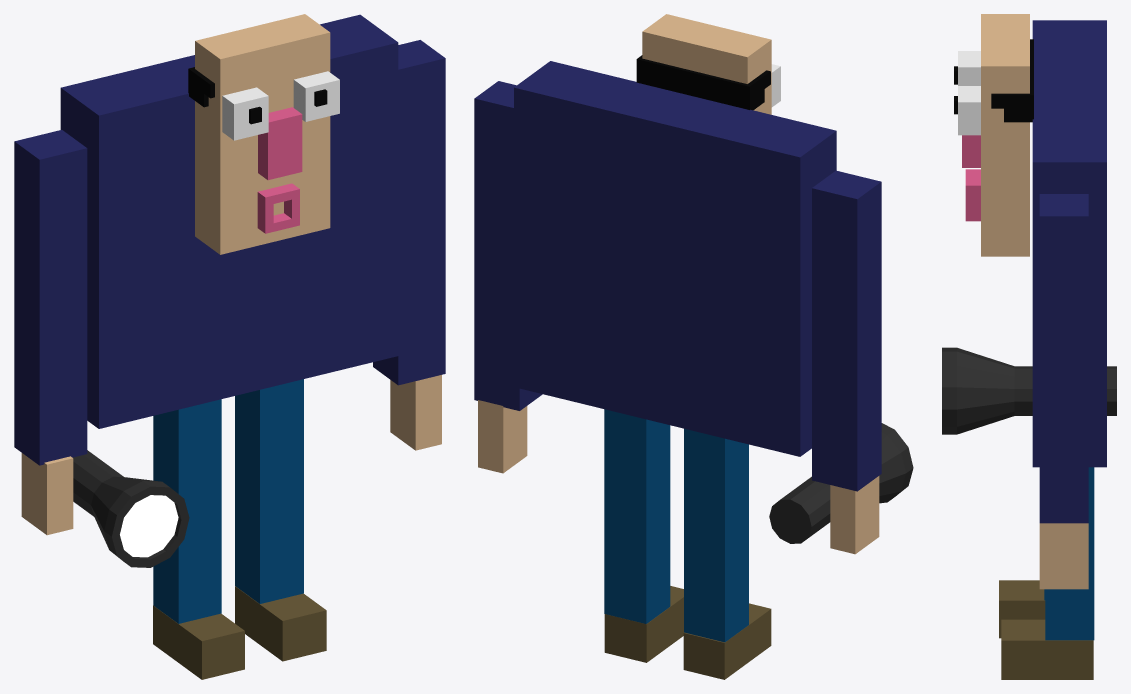
File: Man.glb
The picture shows the model from 3 angles, left to right: view 1: azimuth 30°, elevation 25°; view 2: azimuth 150°, elevation 25°; view 3: azimuth 270°, elevation 25°; orthographic projection. The views are drawn at different scales.
Parts seen in each view (by area): view 1: Cube, Cube.002, Cube.001, Cube.003, Cube.005, Cube.004, Cylinder, Cube.006, Cube.007, Cube.009, Cube.008, Cube.010 (+4 smaller); view 2: Cube, Cube.002, Cube.005, Cube.003, Cube.004, Cube.001, Cylinder, Cube.007, Cube.013, Cube.006, Cube.009, Cube.008; view 3: Cube, Cube.003, Cube.001, Cylinder, Cube.006, Cube.005, Cube.008, Cube.007, Cube.013, Cube.011, Cube.014, Cube.012 (+1 smaller).
Part boxes in pixels (x1,y1,x2,y2): Cube: [60, 14, 398, 428]; Cube.002: [14, 130, 87, 465]; Cube.001: [195, 14, 330, 254]; Cube.003: [373, 40, 445, 385]; Cube.005: [235, 379, 303, 603]; Cube.004: [153, 399, 221, 623]; Cylinder: [73, 450, 189, 567]; Cube.006: [235, 586, 326, 661]; Cube.007: [153, 605, 244, 679]; Cube.009: [21, 453, 73, 535]; Cube.008: [390, 375, 441, 450]; Cube.010: [258, 107, 302, 180]; Cube: [514, 61, 836, 456]; Cube.002: [812, 170, 881, 491]; Cube.005: [604, 409, 670, 623]; Cube.003: [474, 81, 542, 410]; Cube.004: [684, 428, 748, 642]; Cube.001: [642, 14, 771, 114]; Cylinder: [769, 423, 913, 543]; Cube.007: [683, 603, 771, 679]; Cube.013: [636, 55, 770, 110]; Cube.006: [604, 586, 683, 662]; Cube.009: [830, 476, 879, 554]; Cube.008: [478, 400, 527, 473]; Cube: [1032, 20, 1106, 467]; Cube.003: [1039, 194, 1088, 523]; Cube.001: [981, 14, 1029, 256]; Cylinder: [942, 347, 1116, 434]; Cube.006: [1001, 619, 1093, 679]; Cube.005: [1045, 467, 1094, 640]; Cube.008: [1039, 523, 1088, 589]; Cube.007: [999, 580, 1045, 638]; Cube.013: [991, 39, 1033, 122]; Cube.011: [958, 86, 980, 135]; Cube.014: [965, 169, 980, 221]; Cube.012: [958, 51, 980, 85].
Bounding box in the file's own units: 2.69 × 4 × 1.04.
